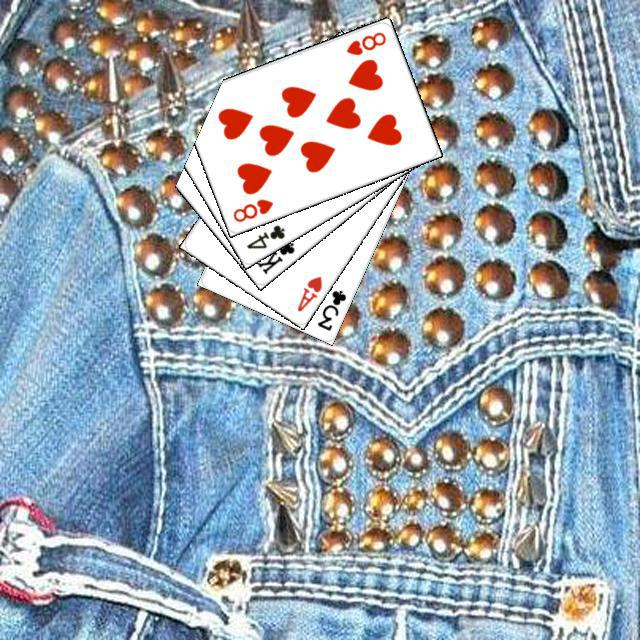3c: (312, 285, 348, 332)
4c: (241, 220, 287, 251)
8h: (228, 194, 275, 224), (341, 27, 388, 57)
Ah: (292, 271, 324, 313)
Kc: (252, 227, 296, 276)
